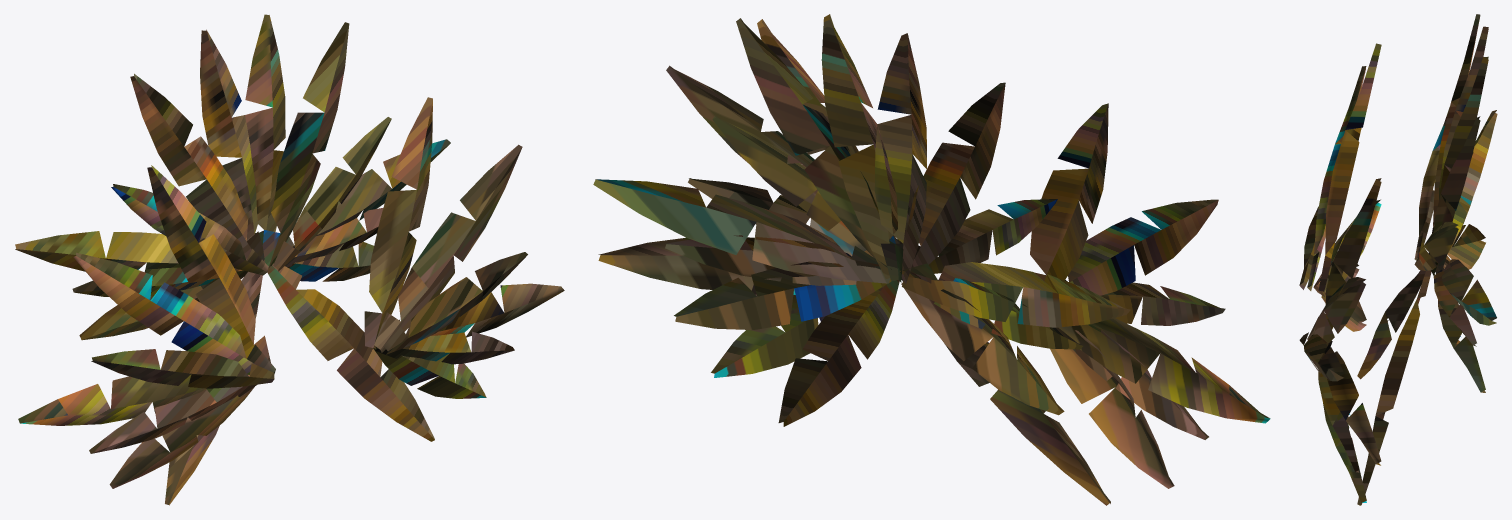
File: indianHeaddress.obj
3 views of the same model, side by side, from view 1: azimuth 30°, elevation 25°; view 2: azimuth 150°, elevation 25°; view 3: azimuth 270°, elevation 25° (orthographic). The views are drawn at different scales.
Parts seen in each view (by area): view 1: Plumas; view 2: Plumas; view 3: Plumas.
Boxes of the visible parts, x1=… form: Plumas: x1=15, y1=14, x2=564, y2=505; Plumas: x1=593, y1=14, x2=1270, y2=505; Plumas: x1=1299, y1=14, x2=1497, y2=505.
Bounding box in the file's own units: 2.84 × 2.02 × 0.9057.
